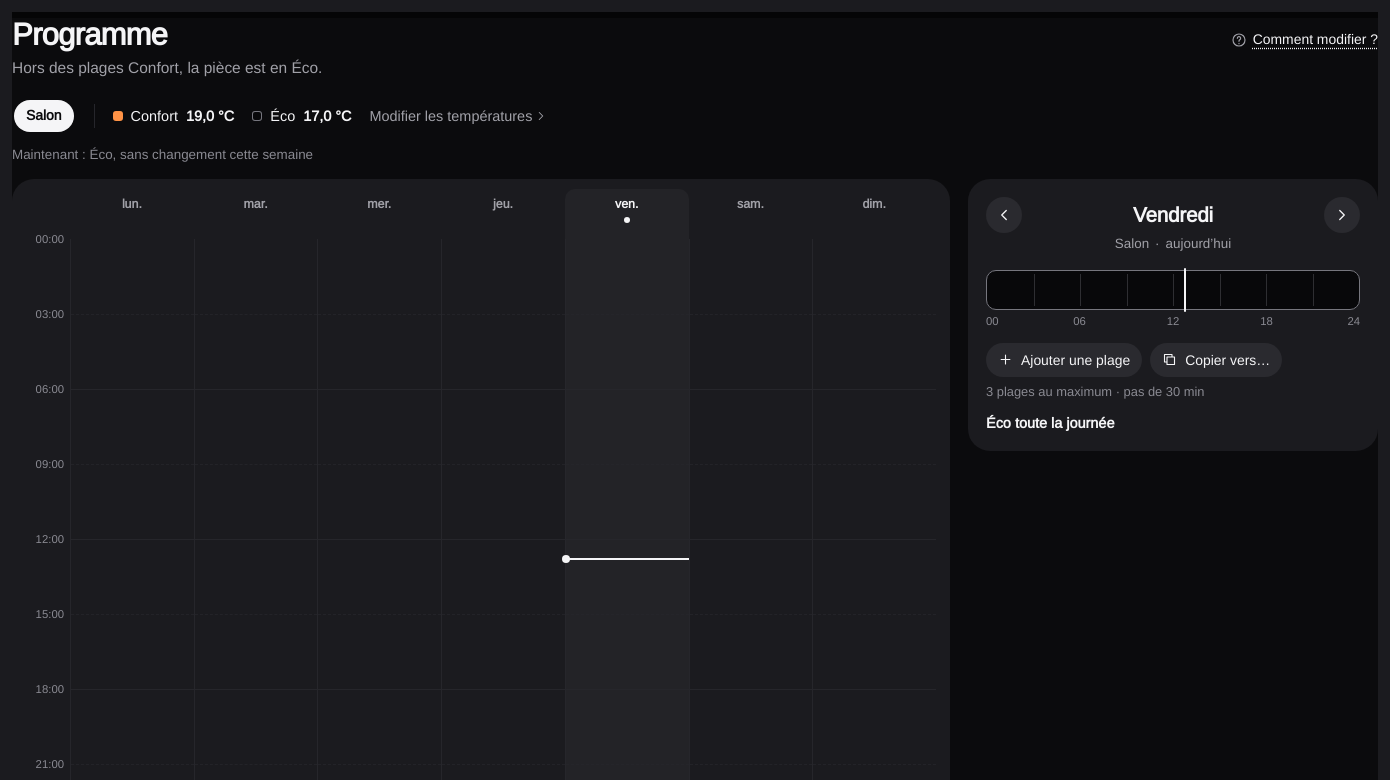
Test case: /schedule: what the page says › a week row opens its day in the editor; previous and next day step through the week
What coordinates should you click on to do the following:
click the button with aria-label "Mardi,"
I would click on:
 (256, 214)
Its box is [194, 189, 317, 239].
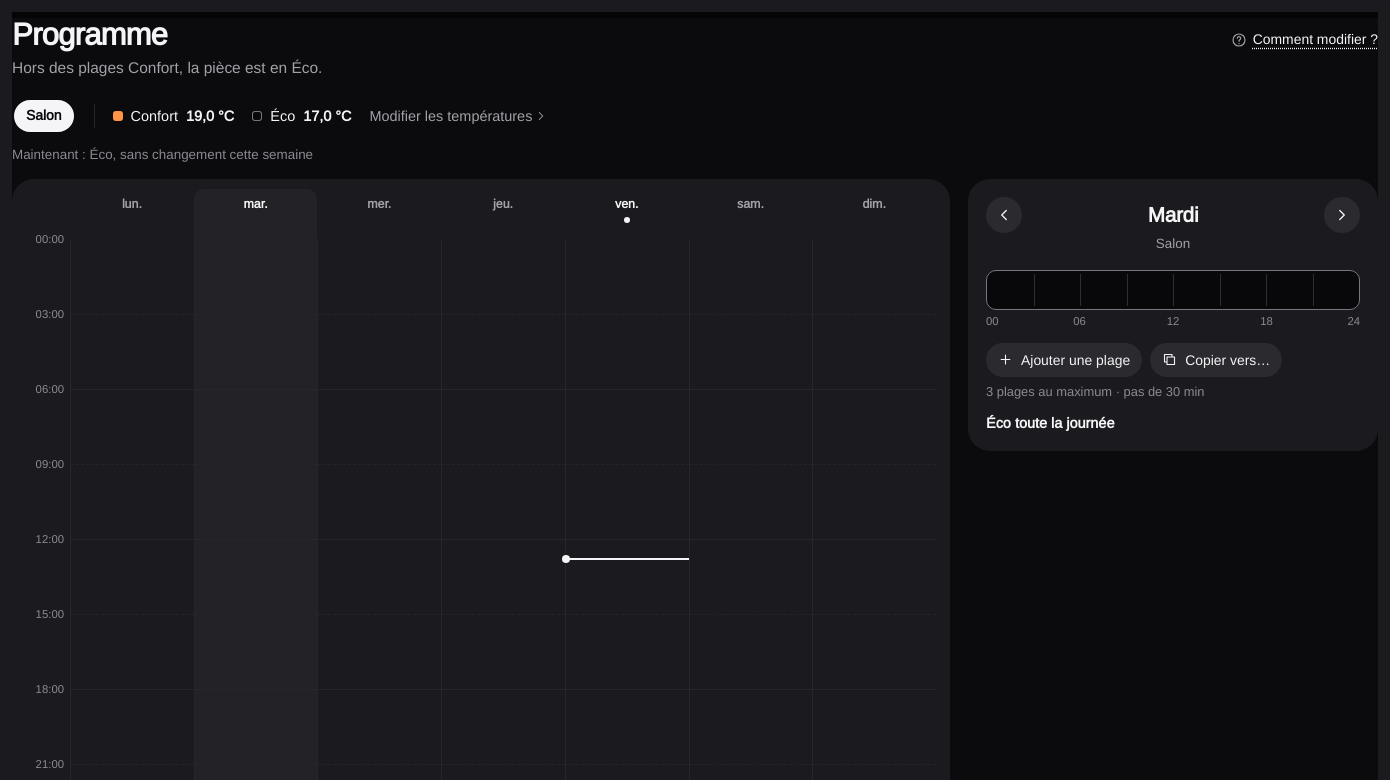
Expected: the heading "Mardi" is shown, [1148, 202, 1198, 228]
What coordinates should you click on to do the following:
click the button named "Jour suivant"
I would click on:
 (1342, 215)
Its box is [1324, 197, 1360, 233].
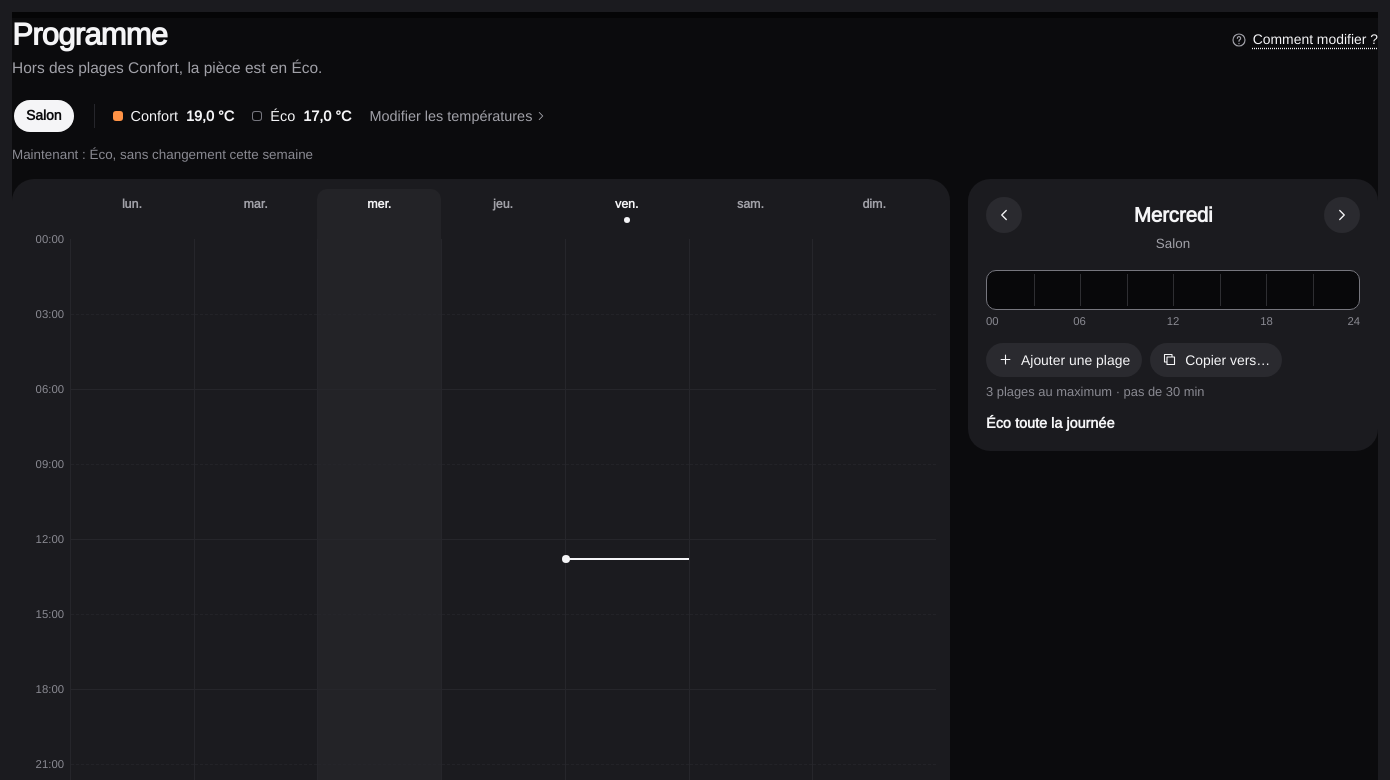
Expected: the heading "Mercredi" is shown, [1134, 202, 1212, 228]
What coordinates should you click on to do the following:
click the button named "Jour précédent"
I would click on:
 (1004, 215)
Its box is [986, 197, 1022, 233].
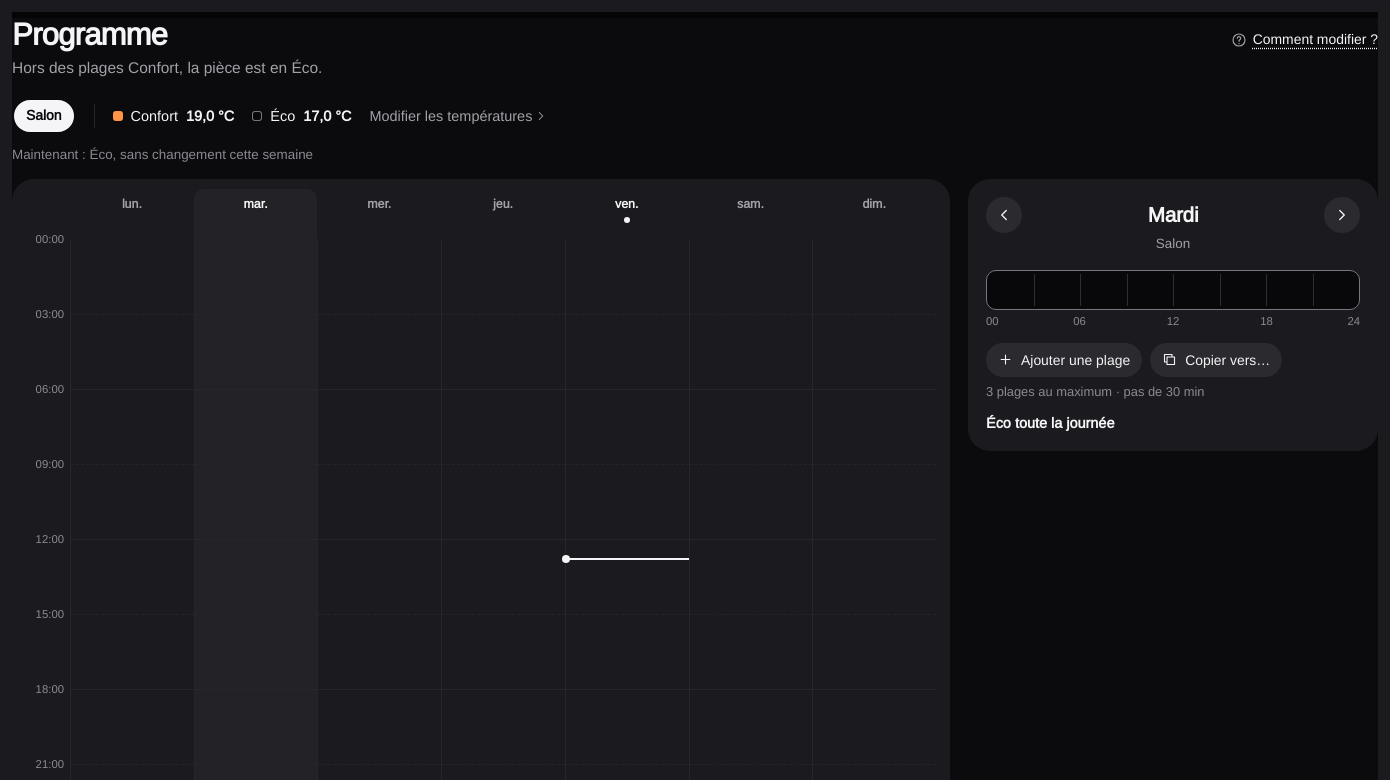
What coordinates should you click on to do the following:
click the button named "Jour précédent"
I would click on:
 (1004, 215)
Its box is [986, 197, 1022, 233].
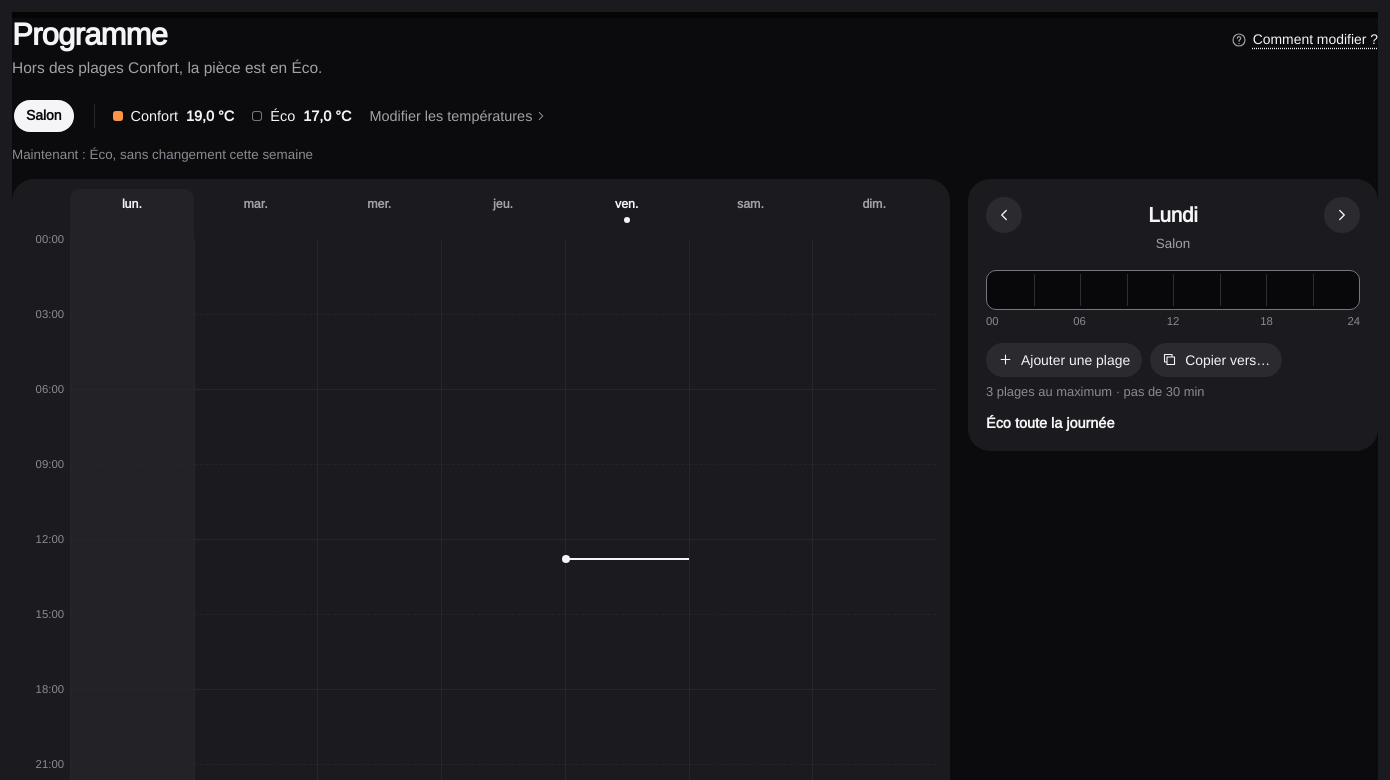
Expected: the heading "Lundi" is shown, [1148, 202, 1198, 228]
What coordinates should you click on to do the following:
click the button named "Jour précédent"
I would click on:
 (1004, 215)
Its box is [986, 197, 1022, 233].
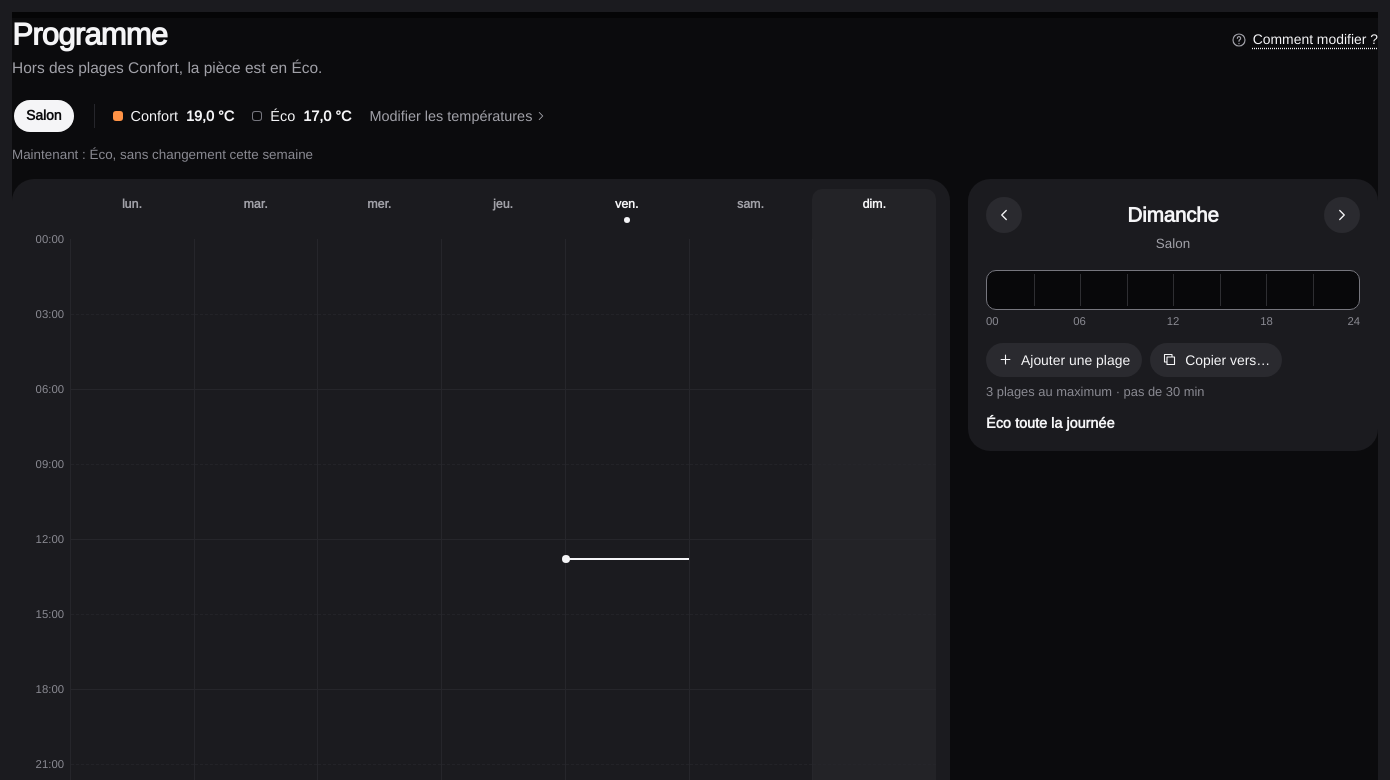
Expected: the heading "Dimanche" is shown, [1127, 202, 1219, 228]
